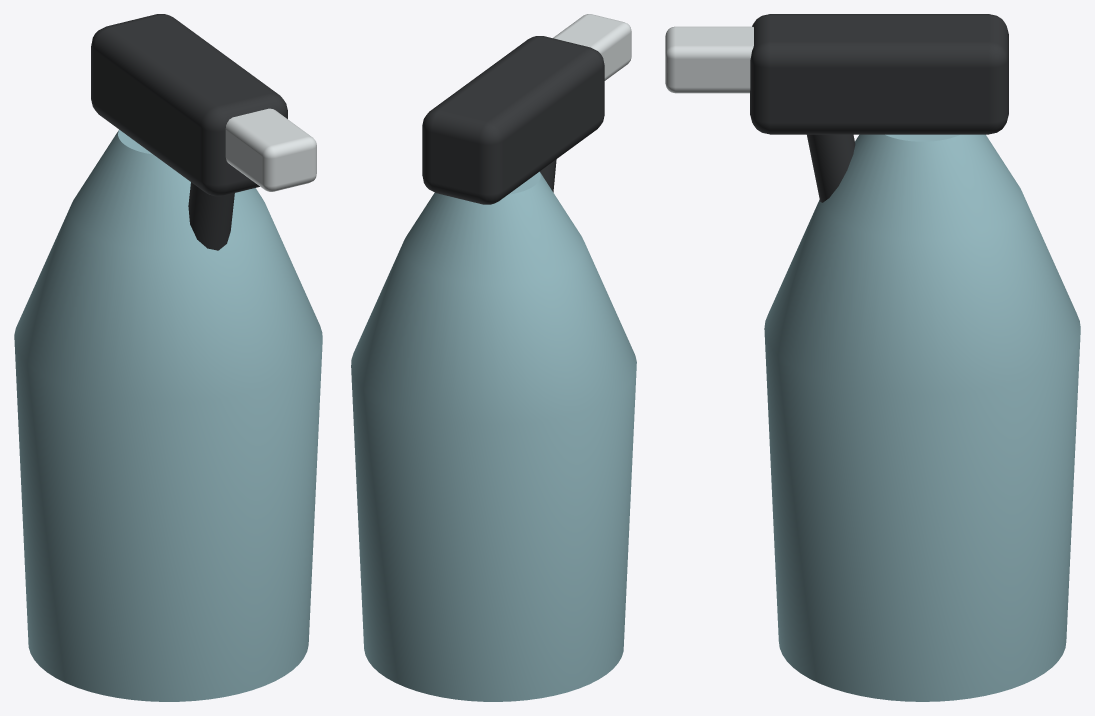
The model's file is barbershop-and-hair-salon-spray-bottle-9928b2a3__29672.glb.
3 renders of one model, left to right at view 1: azimuth 30°, elevation 25°; view 2: azimuth 150°, elevation 25°; view 3: azimuth 270°, elevation 25°, orthographic. The views are drawn at different scales.
Parts seen in each view (by area): view 1: spray-bottle; view 2: spray-bottle; view 3: spray-bottle.
Part boxes in pixels (x1,y1,x2,y2): spray-bottle: [14, 14, 322, 701]; spray-bottle: [351, 14, 636, 701]; spray-bottle: [665, 14, 1080, 701].
Bounding box in the file's own units: 0.11 × 0.235 × 0.1445.
